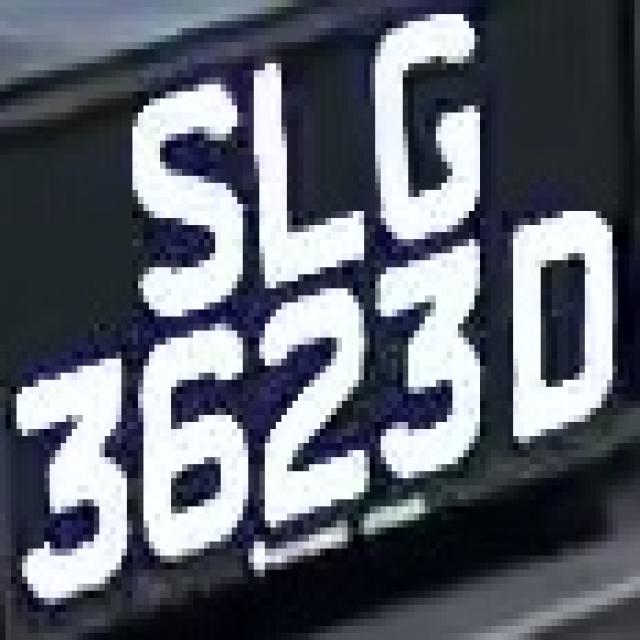2: (232, 260, 397, 528)
3: (5, 351, 143, 640), (370, 239, 508, 499)
6: (138, 309, 265, 577)
D: (497, 211, 612, 450)
G: (364, 21, 497, 232)
L: (232, 56, 370, 282)
S: (110, 56, 248, 310)
